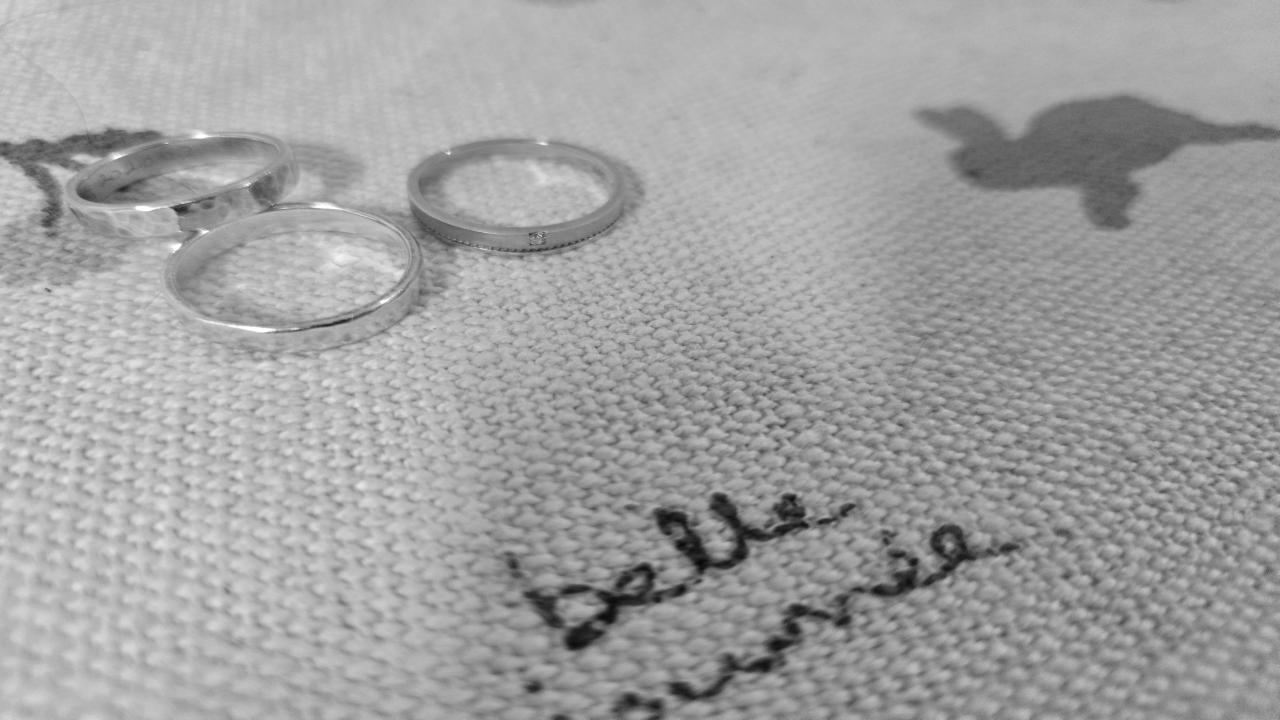ring: (164, 204, 426, 352), (64, 131, 298, 242), (407, 138, 627, 255)
